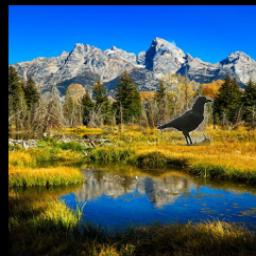Crow: (156, 95, 212, 146)
